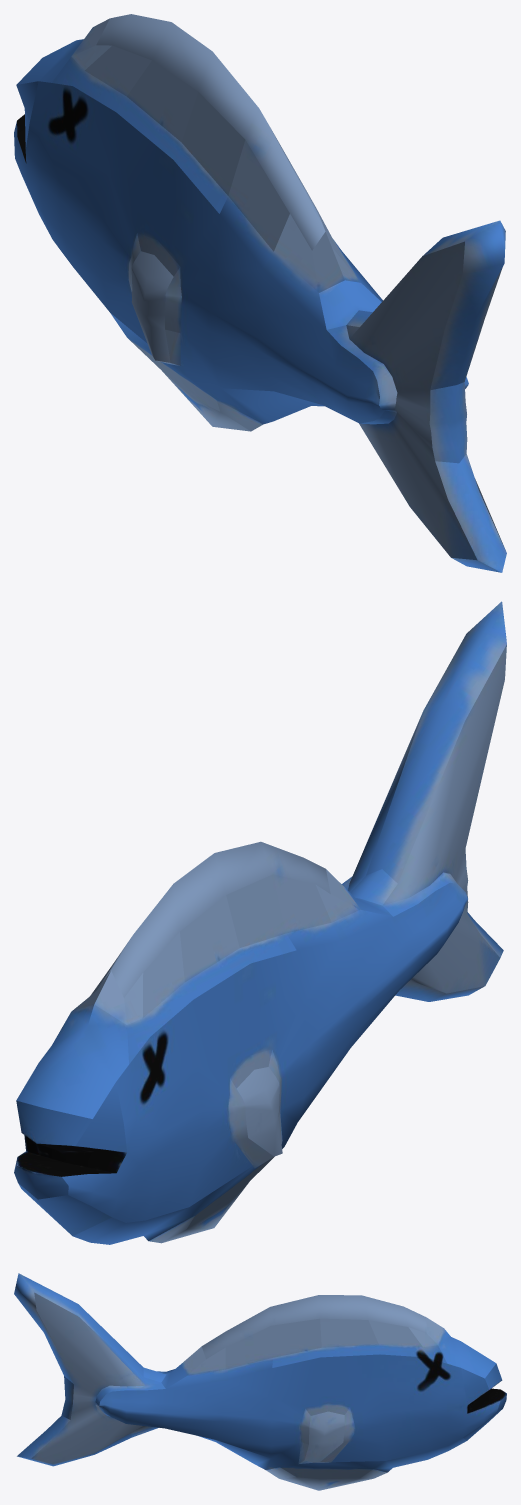
The model's file is Fish_FinalModel.fbx.
The picture shows the model from 3 angles, top to bottom: view 1: azimuth 30°, elevation 25°; view 2: azimuth 150°, elevation 25°; view 3: azimuth 270°, elevation 25°; orthographic projection. The views are drawn at different scales.
Parts seen in each view (by area): view 1: pCube1; view 2: pCube1; view 3: pCube1.
Part boxes in pixels (box(x1,y1,x2,y2)): pCube1: box(14, 14, 506, 572); pCube1: box(14, 601, 506, 1244); pCube1: box(14, 1273, 506, 1490).
Bounding box in the file's own units: 1.94 × 5.82 × 11.94.
1 material, 1 textured.
